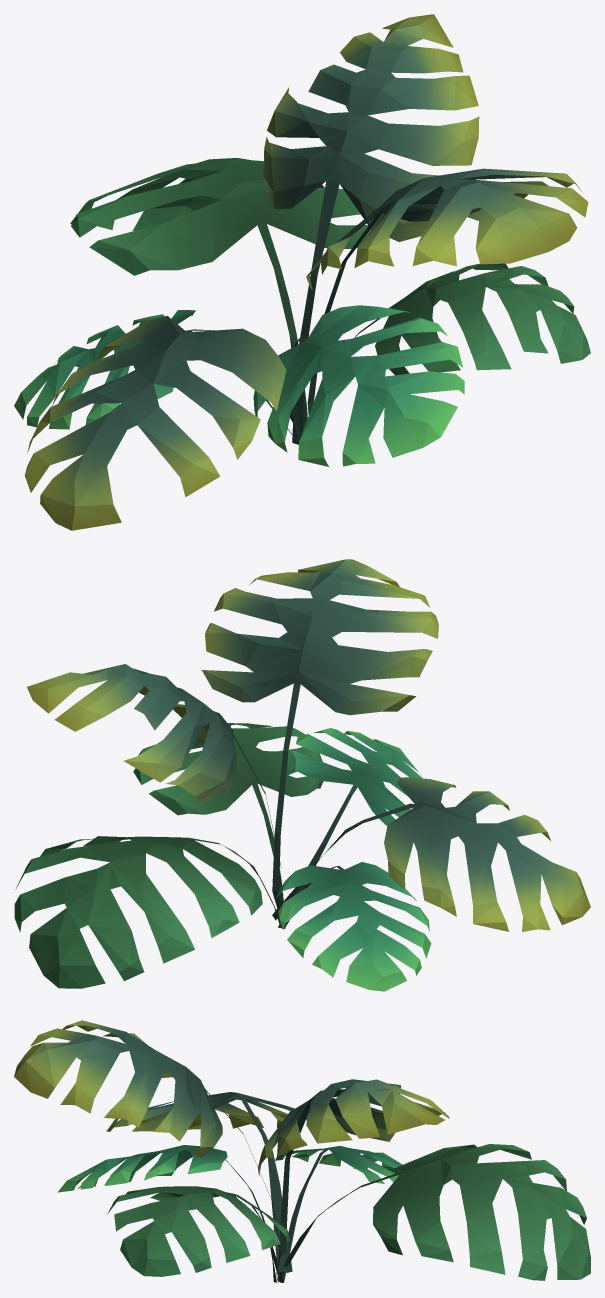
Rendered from Jungle_RoundLeaf_A.fbx.
3 renders of one model, top to bottom at view 1: azimuth 30°, elevation 25°; view 2: azimuth 150°, elevation 25°; view 3: azimuth 270°, elevation 25°, orthographic. The views are drawn at different scales.
Parts seen in each view (by area): view 1: Jungle_RoundLeaf_A; view 2: Jungle_RoundLeaf_A; view 3: Jungle_RoundLeaf_A.
Boxes of the visible parts, box(x1,y1,x2,y2) form: Jungle_RoundLeaf_A: box(14, 14, 590, 530); Jungle_RoundLeaf_A: box(14, 559, 590, 991); Jungle_RoundLeaf_A: box(14, 1020, 590, 1282).
Bounding box in the file's own units: 3.35 × 2.02 × 3.99.
